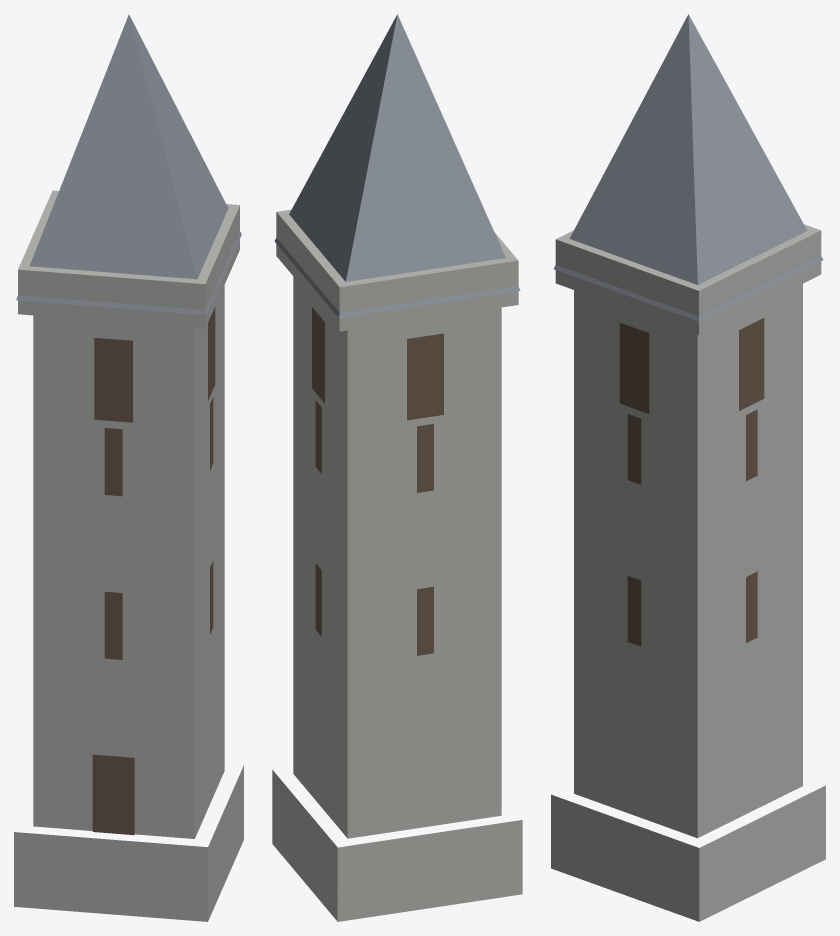
The model's file is watchtower.glb.
3 views of the same model, side by side, from view 1: azimuth 30°, elevation 25°; view 2: azimuth 150°, elevation 25°; view 3: azimuth 270°, elevation 25° (orthographic).
Visible parts, largest first — view 1: raghave:Bld_Crossing_Watchtower_01; view 2: raghave:Bld_Crossing_Watchtower_01; view 3: raghave:Bld_Crossing_Watchtower_01.
Part boxes in pixels (box(x1,y1,x2,y2)): raghave:Bld_Crossing_Watchtower_01: box(14, 14, 243, 921); raghave:Bld_Crossing_Watchtower_01: box(272, 14, 522, 921); raghave:Bld_Crossing_Watchtower_01: box(551, 14, 825, 921).
Bounding box in the file's own units: 33.84 × 115 × 33.84.
